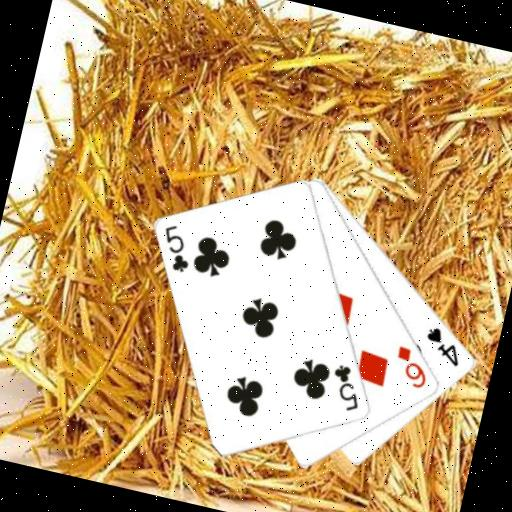4S: (418, 322, 468, 369)
5C: (154, 220, 200, 277), (323, 360, 369, 415)
6D: (388, 342, 435, 392)
